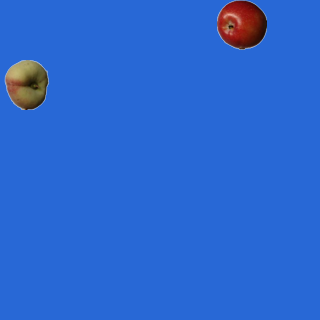Apple Braeburn: (216, 0, 266, 49)
Peach Flat: (1, 59, 51, 109)
